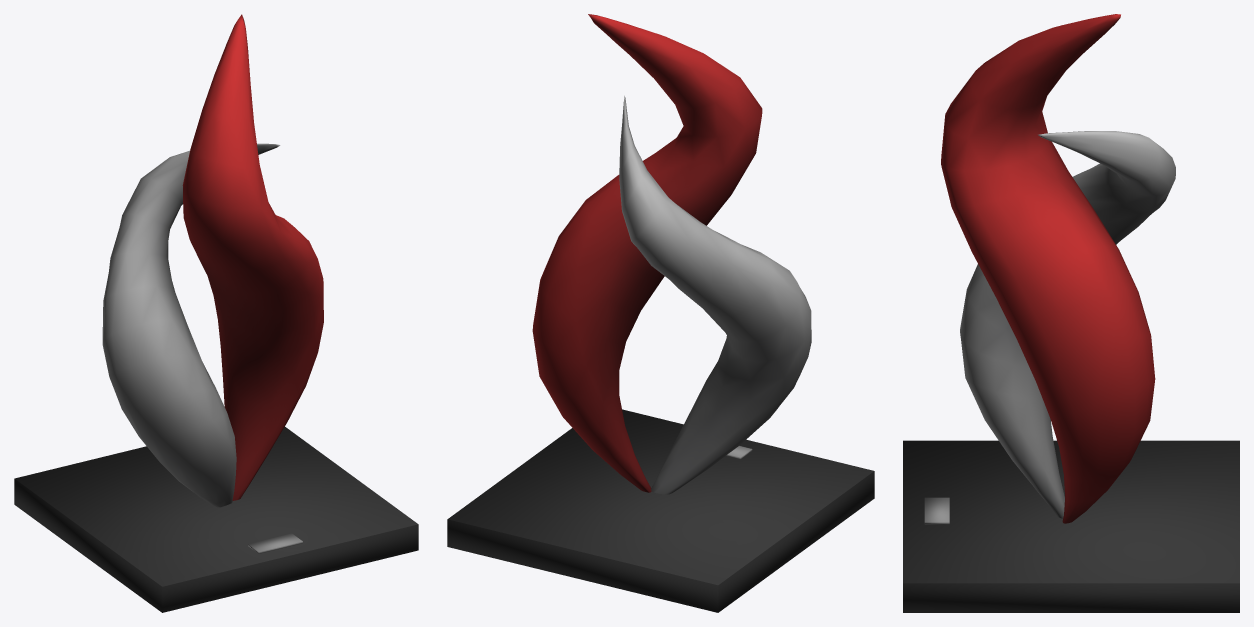
3 views of the same model, side by side, from view 1: azimuth 30°, elevation 25°; view 2: azimuth 150°, elevation 25°; view 3: azimuth 270°, elevation 25° (orthographic). The views are drawn at different scales.
Parts seen in each view (by area): view 1: TwistingFigures; view 2: TwistingFigures; view 3: TwistingFigures.
Boxes of the visible parts, x1=… form: TwistingFigures: x1=14, y1=14, x2=418, y2=612; TwistingFigures: x1=447, y1=14, x2=874, y2=612; TwistingFigures: x1=903, y1=14, x2=1239, y2=612.
Size of the model in its own units: 0.2759 by 0.5 by 0.2759.
